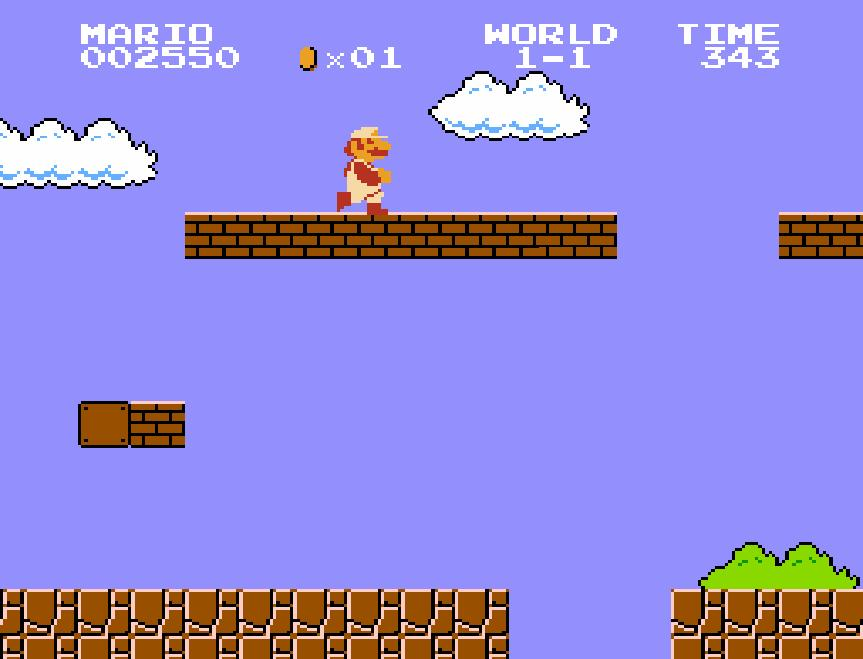fire_mario: (335, 118, 393, 216)
